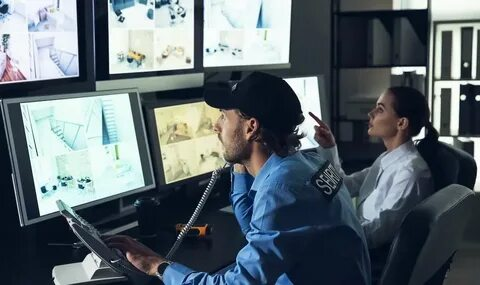awake: (211, 69, 372, 285), (353, 85, 436, 248)
